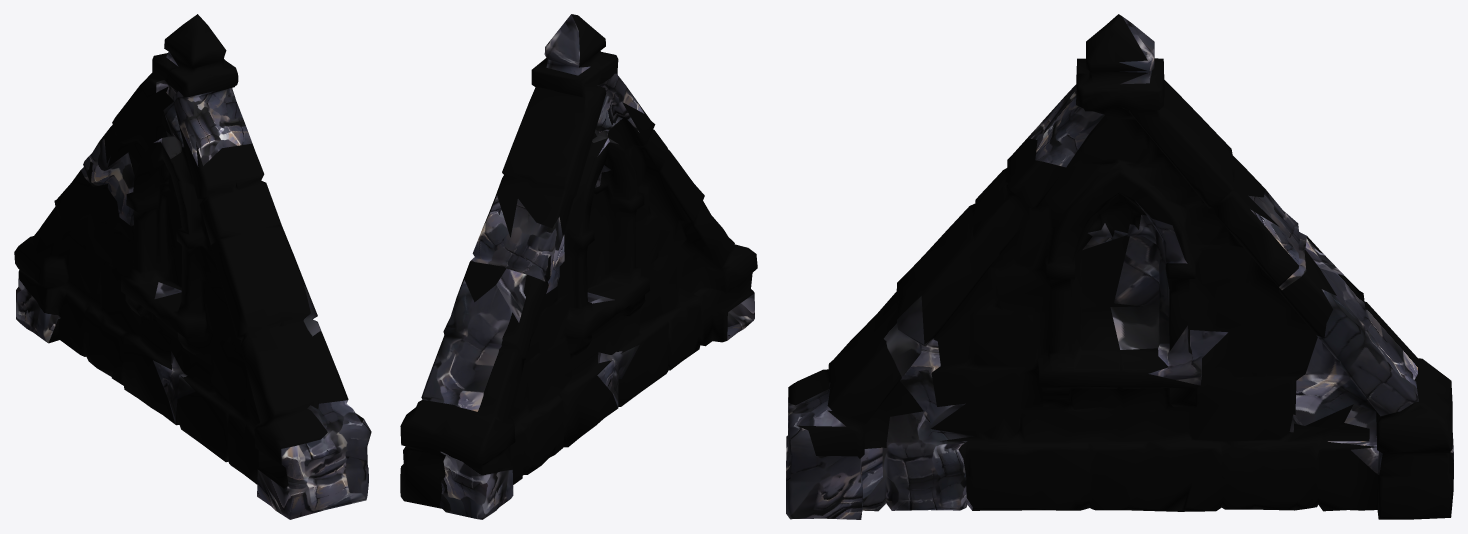
Rendered from RIP0 (3).obj.
The picture shows the model from 3 angles, left to right: view 1: azimuth 30°, elevation 25°; view 2: azimuth 150°, elevation 25°; view 3: azimuth 270°, elevation 25°; orthographic projection. The views are drawn at different scales.
Visible parts, largest first — view 1: RIP0; view 2: RIP0; view 3: RIP0.
Part boxes in pixels (<box>): RIP0: <box>14,14,371,519</box>; RIP0: <box>400,14,757,519</box>; RIP0: <box>786,14,1453,519</box>.
Bounding box in the file's own units: 0.1894 × 0.7991 × 1.
